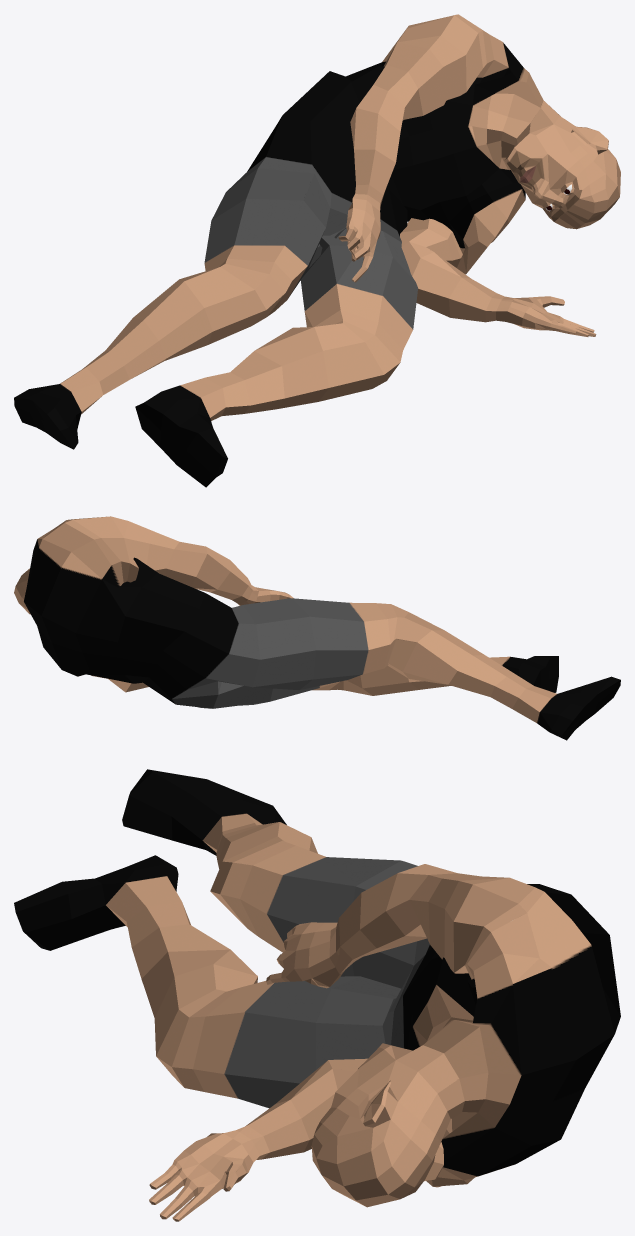
Rendered from PlayerDead(97).obj.
3 renders of one model, top to bottom at view 1: azimuth 30°, elevation 25°; view 2: azimuth 150°, elevation 25°; view 3: azimuth 270°, elevation 25°, orthographic. The views are drawn at different scales.
Parts seen in each view (by area): view 1: Plane002; view 2: Plane002; view 3: Plane002.
Part boxes in pixels (<box>): Plane002: <box>14,14,620,487</box>; Plane002: <box>14,516,620,740</box>; Plane002: <box>14,769,620,1221</box>.
Bounding box in the file's own units: 1579 × 549 × 929.
